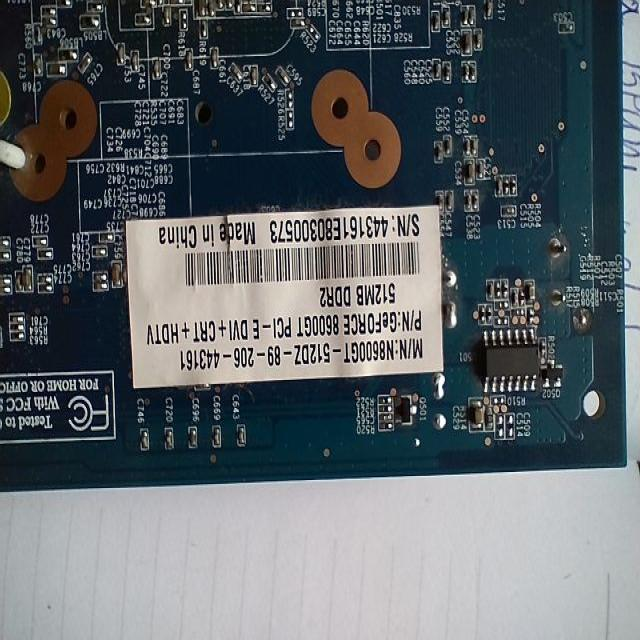capacitor: (522, 273, 542, 310), (427, 132, 444, 168), (428, 59, 440, 86)
